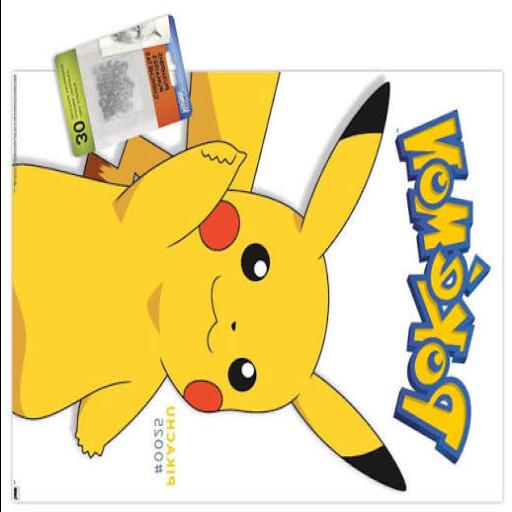Pikachu: (18, 71, 407, 494)
